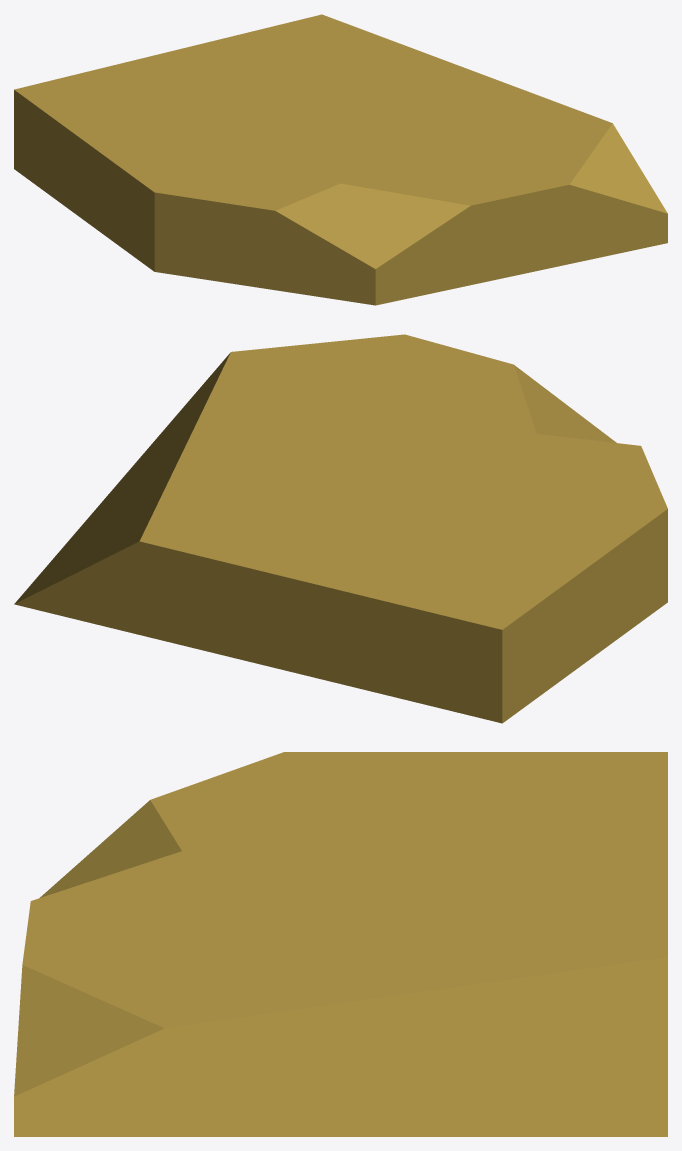
Rendered from Plitka3.fbx.
The picture shows the model from 3 angles, top to bottom: view 1: azimuth 30°, elevation 25°; view 2: azimuth 150°, elevation 25°; view 3: azimuth 270°, elevation 25°; orthographic projection. The views are drawn at different scales.
Parts seen in each view (by area): view 1: Cube.002; view 2: Cube.002; view 3: Cube.002.
Part boxes in pixels (x1,y1,x2,y2): Cube.002: (14,14,667,305); Cube.002: (14,334,667,723); Cube.002: (14,752,667,1136).
Bounding box in the file's own units: 20.74 × 3.8 × 20.74.
